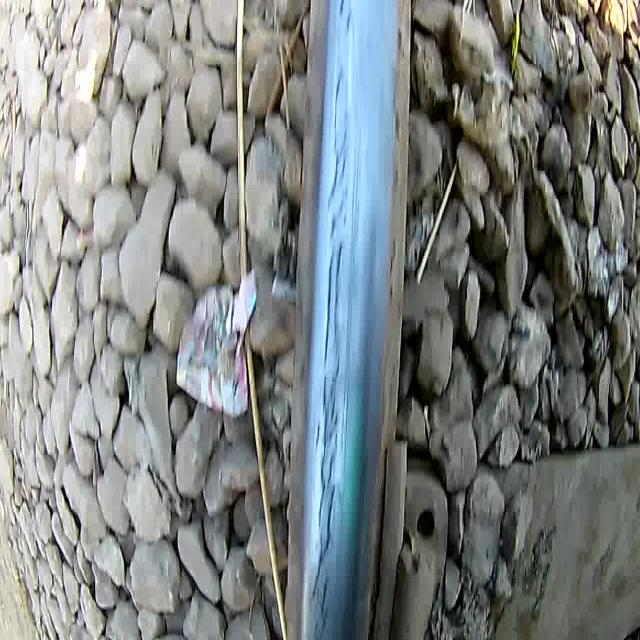Cracks: (308, 60, 351, 640), (337, 0, 354, 41)
Grooves: (338, 123, 364, 490)
